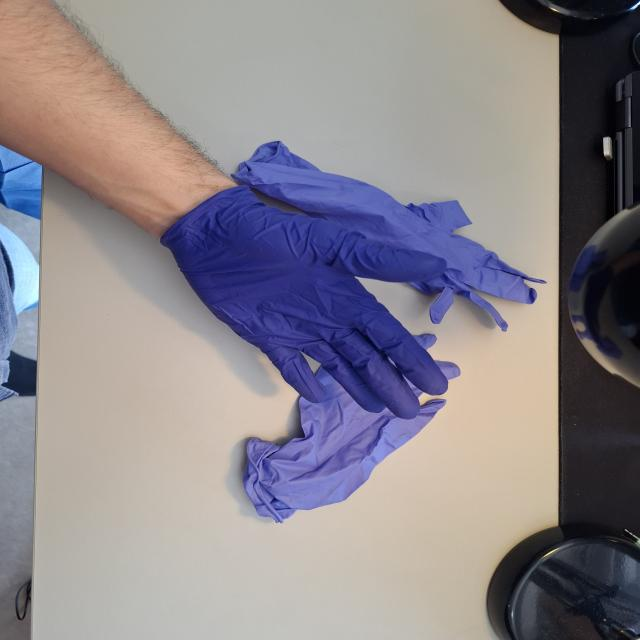glove_on: (158, 184, 452, 421)
